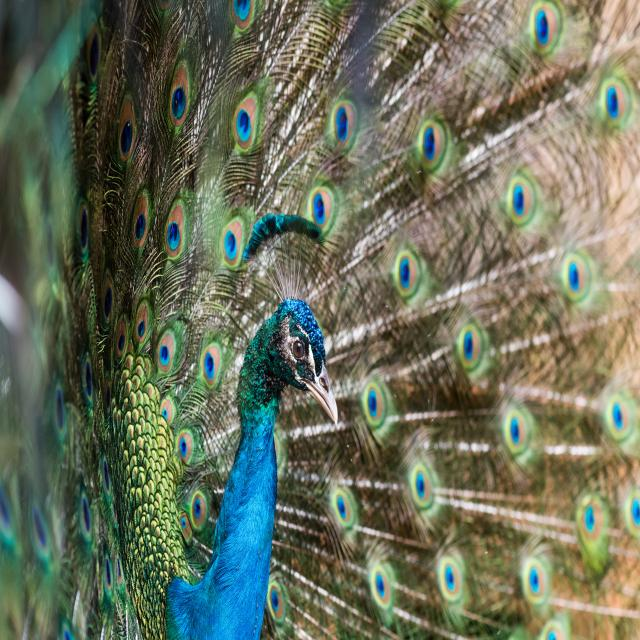peacock: (16, 2, 640, 640)
